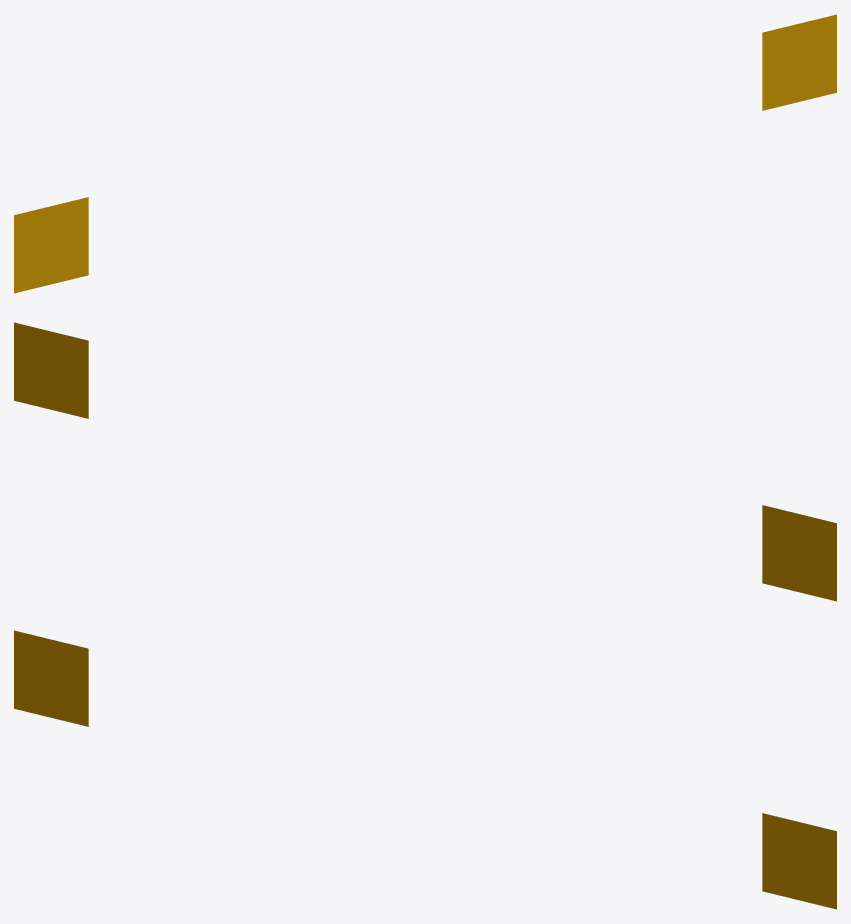
File: shared.gltf
The picture shows the model from 3 angles, top to bottom: view 1: azimuth 30°, elevation 25°; view 2: azimuth 150°, elevation 25°; view 3: azimuth 330°, elevation 25°; orthographic projection.
Bounding box in the file's own units: 11 × 1 × 0.
